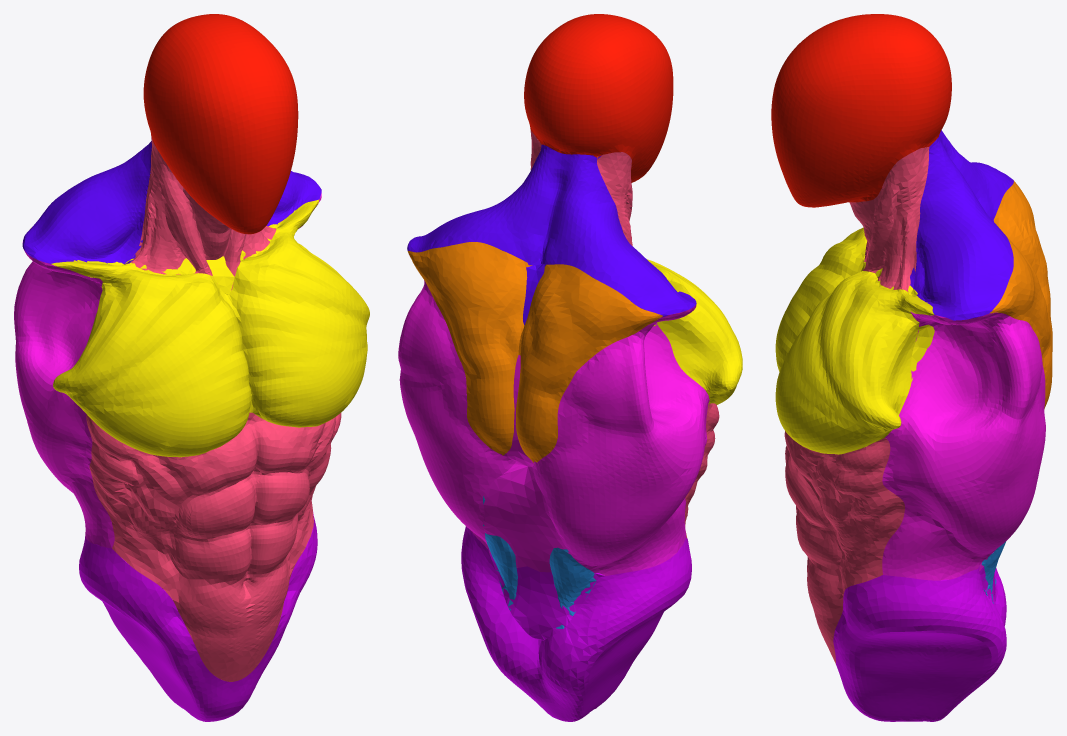
Rendered from torso.glb.
3 views of the same model, side by side, from view 1: azimuth 30°, elevation 25°; view 2: azimuth 150°, elevation 25°; view 3: azimuth 270°, elevation 25° (orthographic). The views are drawn at different scales.
Parts seen in each view (by area): view 1: model_part9, model_part8, model_part6, model_part5, model_part7, model_part3, model_part2; view 2: model_part5, model_part1, model_part7, model_part6, model_part3, model_part4, model_part9, model_part0, model_part2, model_part8; view 3: model_part4, model_part6, model_part9, model_part7, model_part8, model_part3, model_part2, model_part1, model_part0.
Part boxes in pixels (left/top/right/bottom): model_part9: left=51, top=199, right=369, bottom=457; model_part8: left=86, top=412, right=341, bottom=681; model_part6: left=143, top=14, right=298, bottom=234; model_part5: left=14, top=242, right=114, bottom=548; model_part7: left=79, top=512, right=317, bottom=721; model_part3: left=22, top=141, right=321, bottom=264; model_part2: left=126, top=135, right=276, bottom=290; model_part5: left=514, top=304, right=709, bottom=575; model_part1: left=407, top=242, right=662, bottom=462; model_part7: left=461, top=526, right=691, bottom=721; model_part6: left=524, top=14, right=673, bottom=182; model_part3: left=407, top=144, right=696, bottom=325; model_part4: left=398, top=280, right=539, bottom=571; model_part9: left=647, top=259, right=742, bottom=406; model_part0: left=483, top=496, right=596, bottom=628; model_part2: left=530, top=130, right=632, bottom=245; model_part8: left=684, top=403, right=719, bottom=537; model_part4: left=882, top=311, right=1045, bottom=580; model_part6: left=771, top=14, right=951, bottom=207; model_part9: left=775, top=227, right=934, bottom=454; model_part7: left=833, top=566, right=1006, bottom=721; model_part8: left=784, top=431, right=904, bottom=663; model_part3: left=910, top=130, right=1013, bottom=320; model_part2: left=849, top=147, right=929, bottom=291; model_part1: left=989, top=180, right=1052, bottom=408; model_part0: left=981, top=541, right=1005, bottom=603.
Size of the model in its own units: 0.0554 by 0.12 by 0.044.
